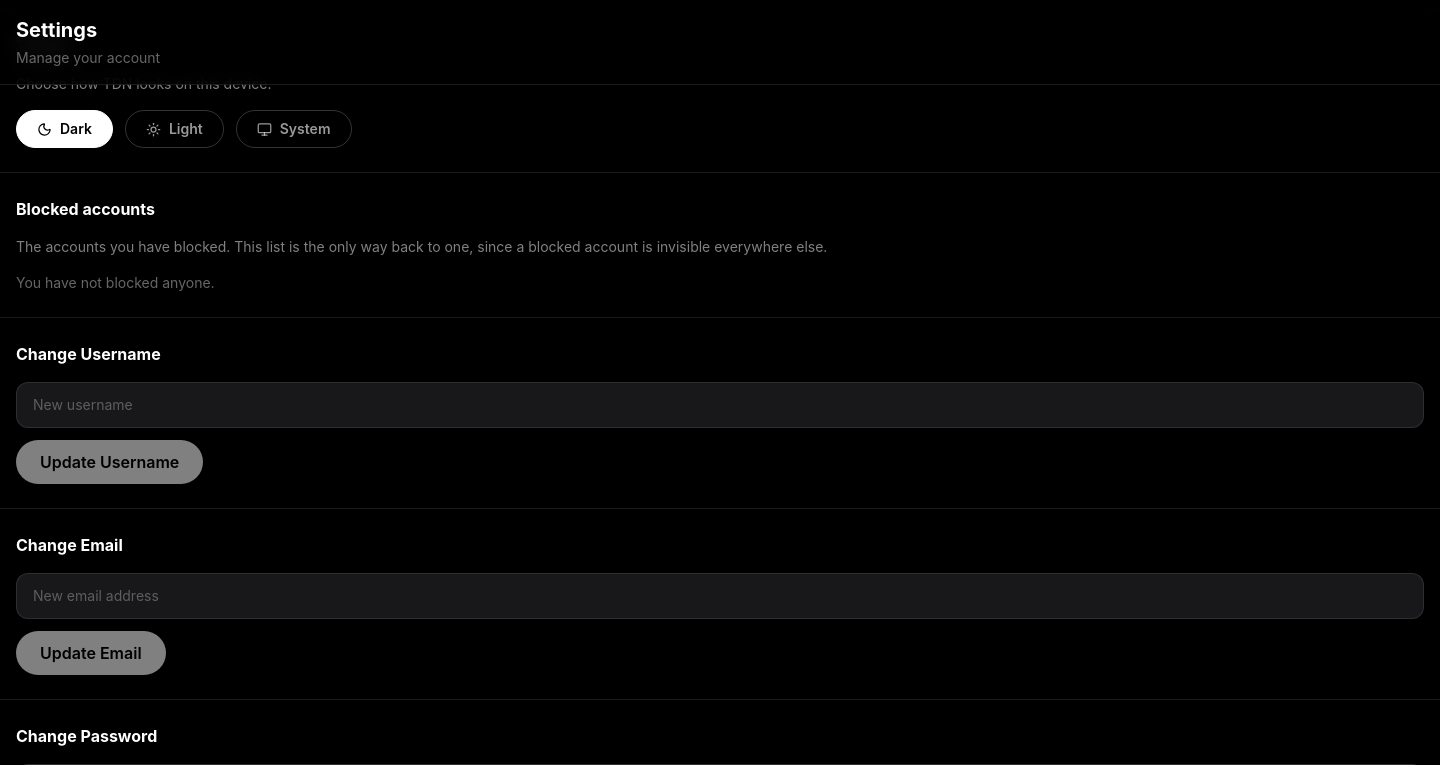
SettingsPage — change username › keeps what was typed when the update fails
(page scrolled)
Step 1. Type "taken" into the field with placeholder "New username" → [720, 405], box left=16, top=382, right=1424, bottom=428
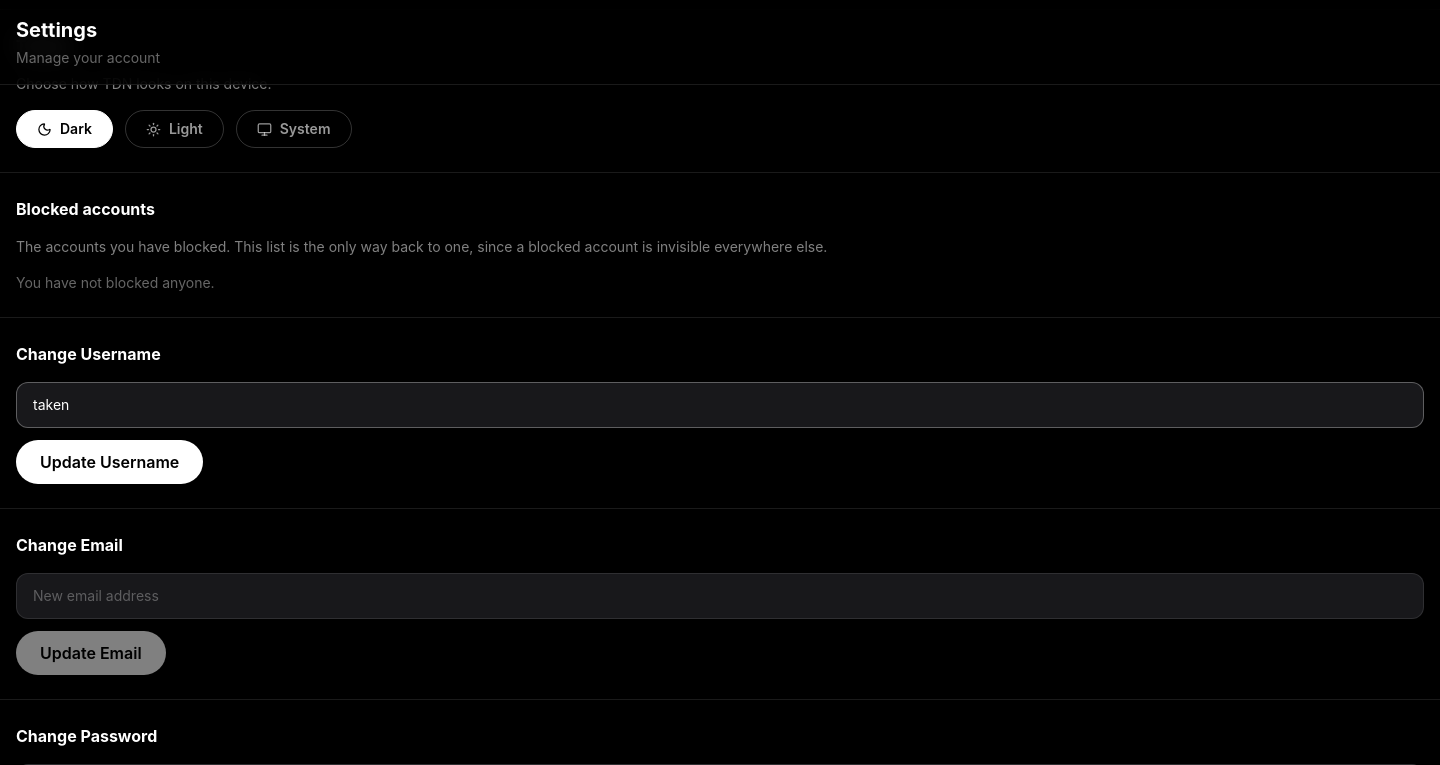
Step 2. Click the button "Update Username" → [110, 462], box left=16, top=440, right=203, bottom=484
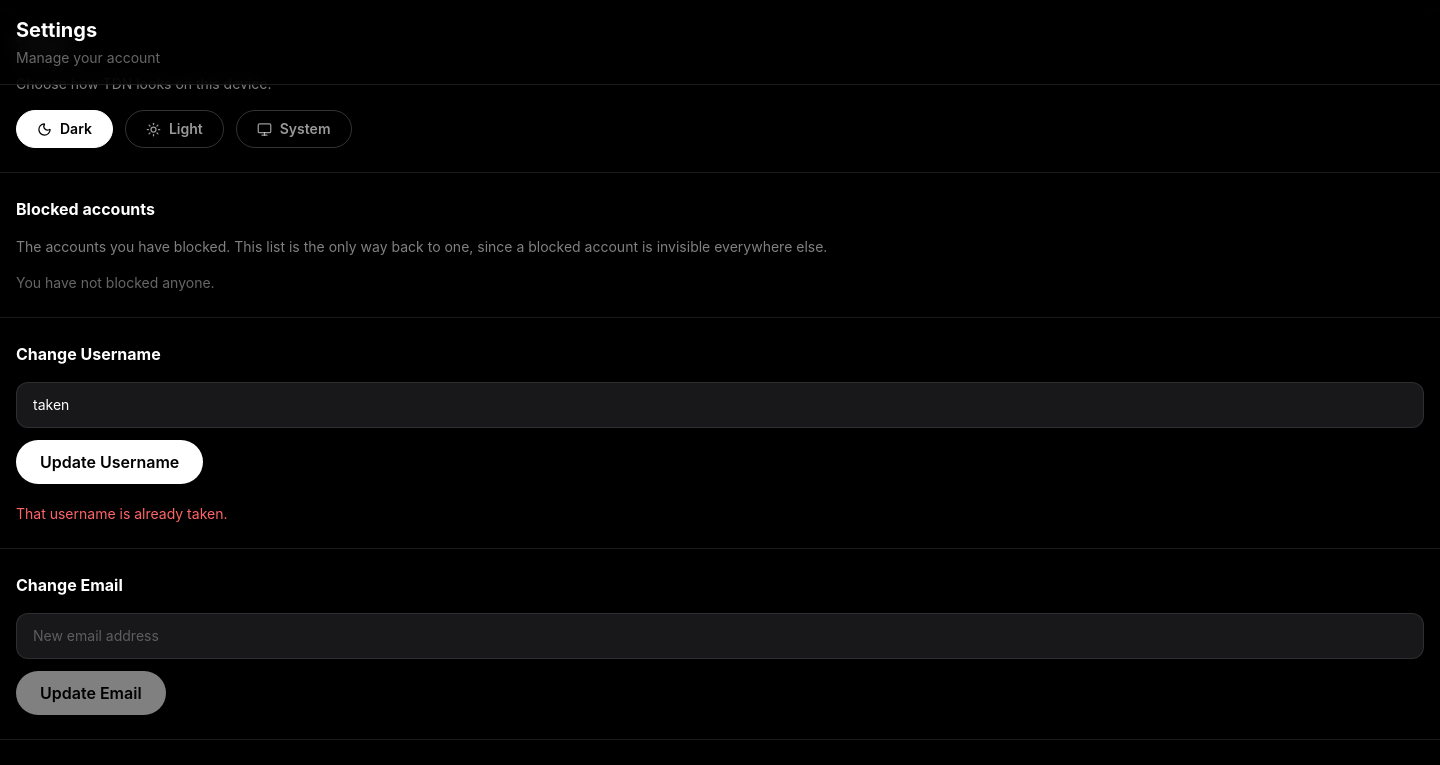
Now the text "That username is already taken." is shown, box left=16, top=505, right=228, bottom=522
